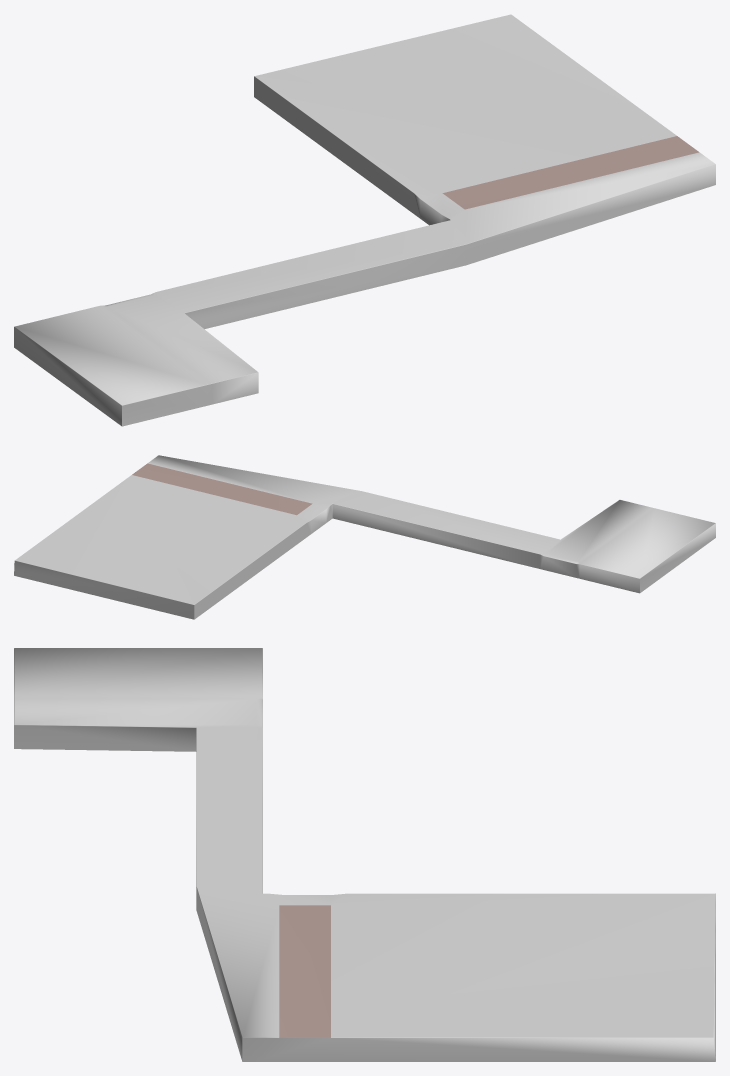
File: test.DAE.dae
The picture shows the model from 3 angles, top to bottom: view 1: azimuth 30°, elevation 25°; view 2: azimuth 150°, elevation 25°; view 3: azimuth 270°, elevation 25°; orthographic projection. The views are drawn at different scales.
Visible parts, largest first — view 1: Plane.888; view 2: Plane.888; view 3: Plane.888.
Boxes of the visible parts, x1,y1,x2,y2 form: Plane.888: (14, 14, 715, 426); Plane.888: (14, 455, 715, 619); Plane.888: (14, 648, 715, 1061).
Bounding box in the file's own units: 74.37 × 56.62 × 2.15.
